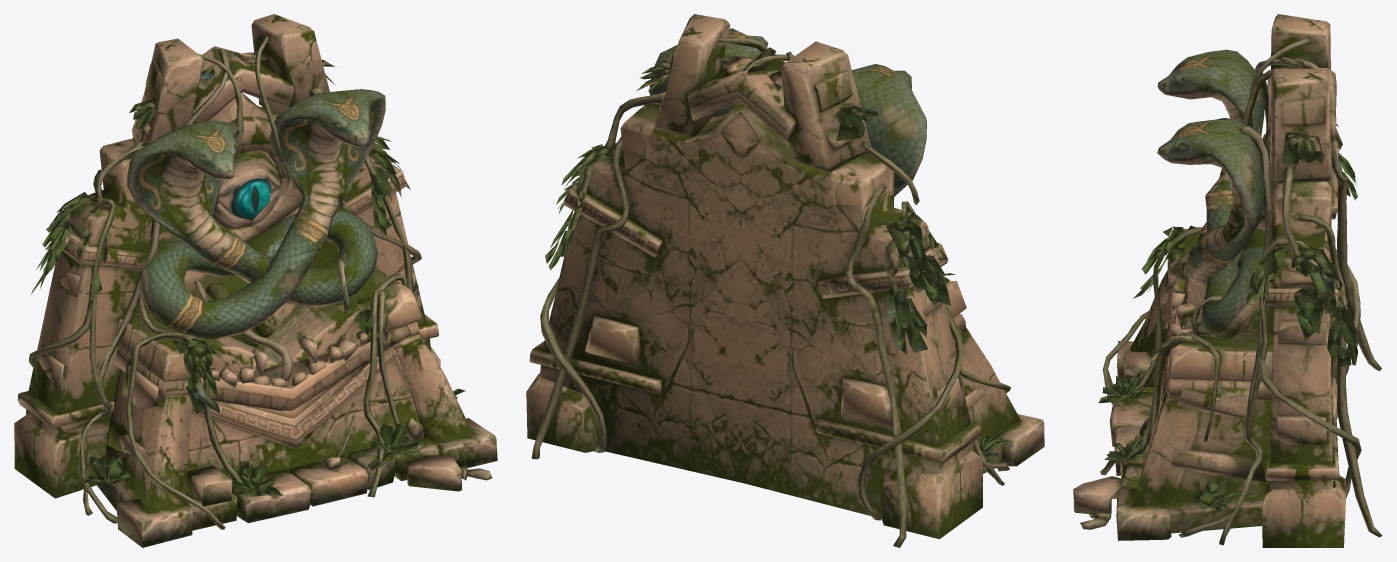
File: meshy-temple.glb
The picture shows the model from 3 angles, left to right: view 1: azimuth 30°, elevation 25°; view 2: azimuth 150°, elevation 25°; view 3: azimuth 270°, elevation 25°; orthographic projection. The views are drawn at different scales.
Size of the model in its own units: 1 by 1 by 0.6905.
1 material, 1 textured.
